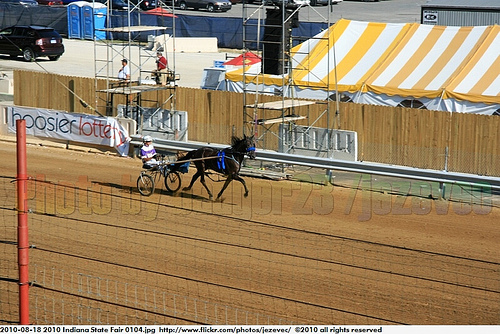horse: (174, 132, 259, 204)
